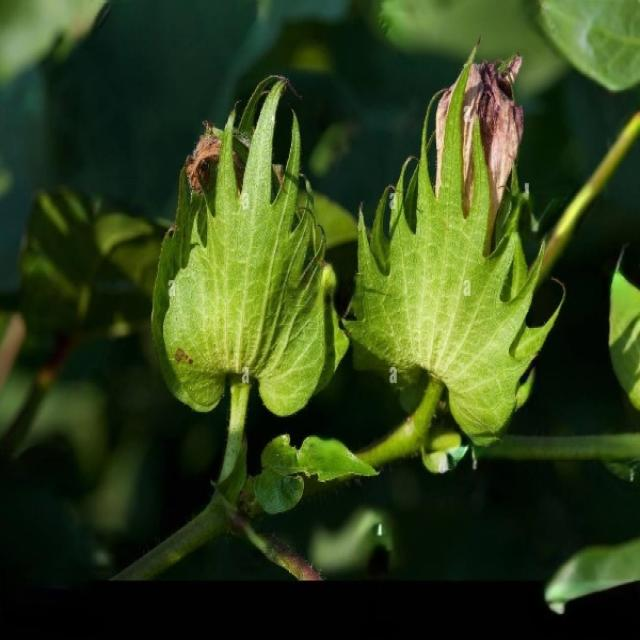Cotton Bud: (156, 91, 349, 413), (352, 110, 533, 452)
